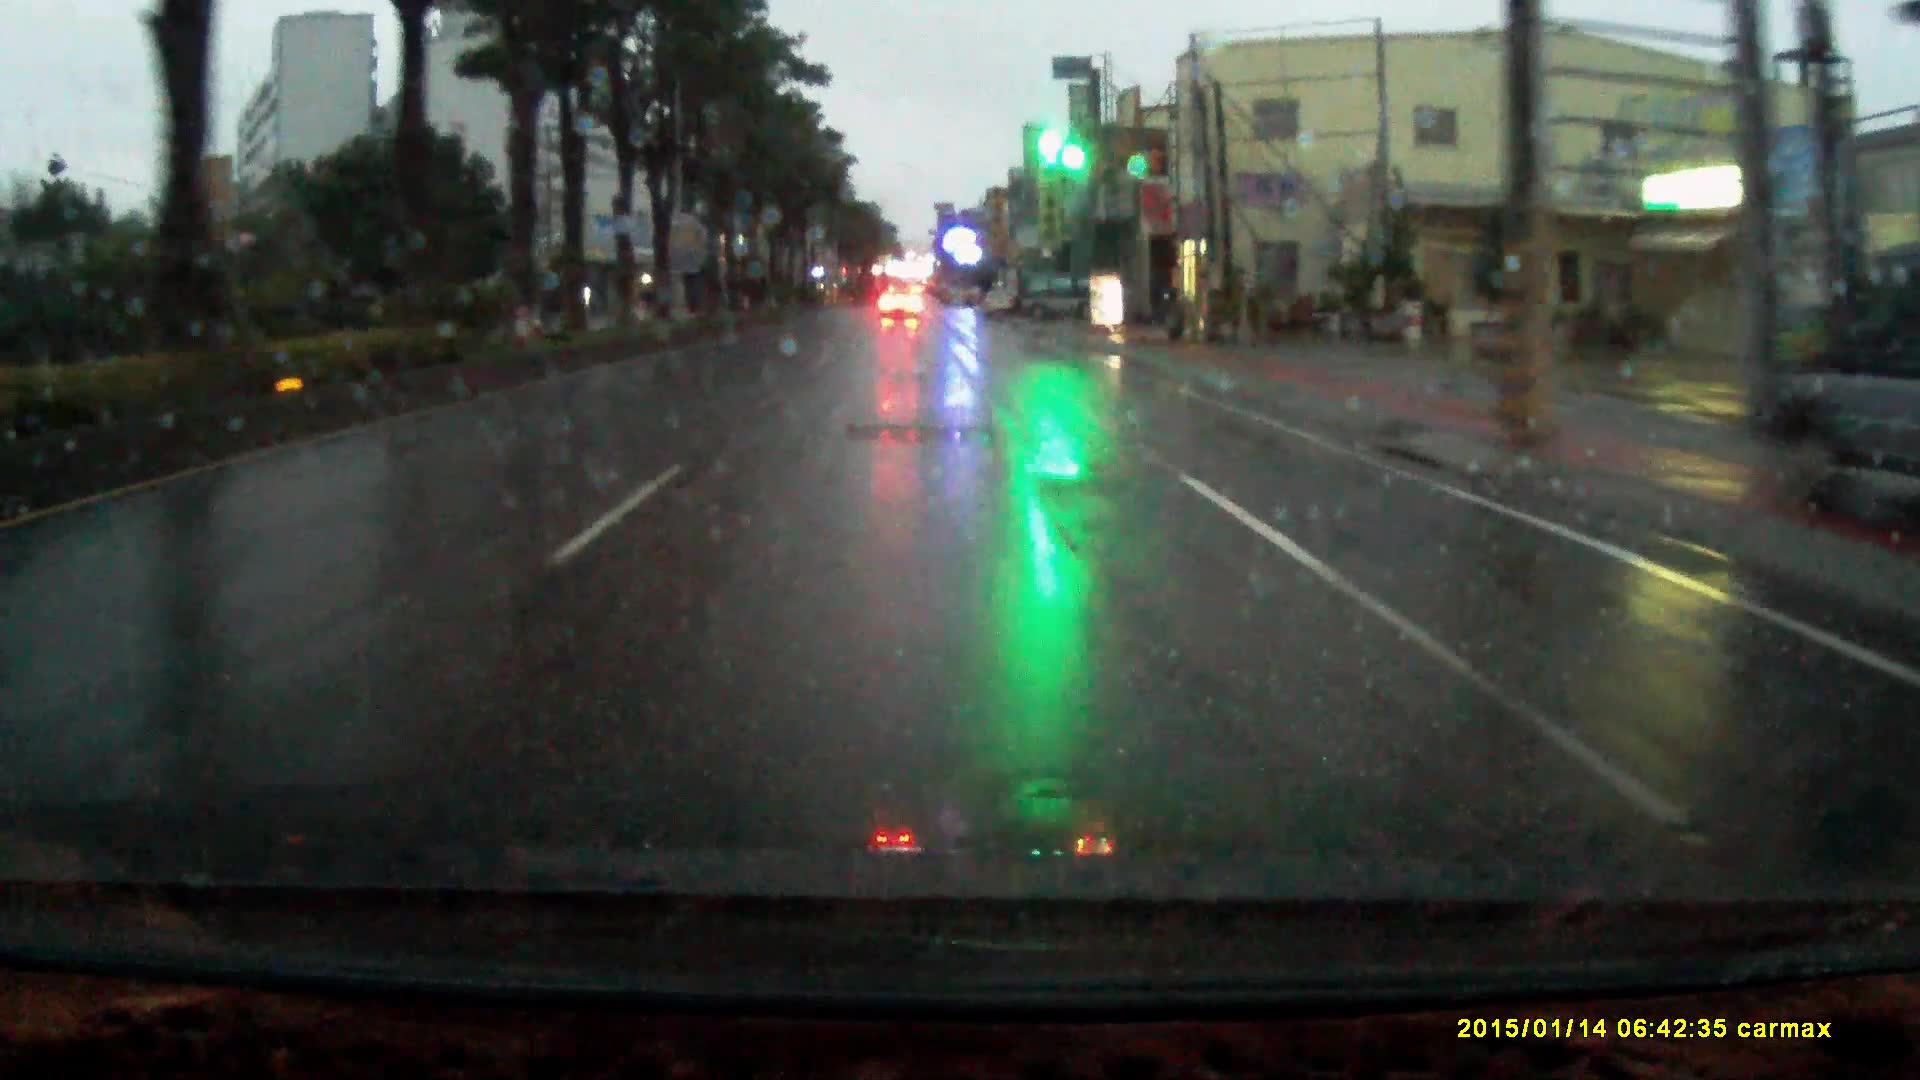vehicle: (1022, 280, 1097, 324), (880, 291, 926, 328)
